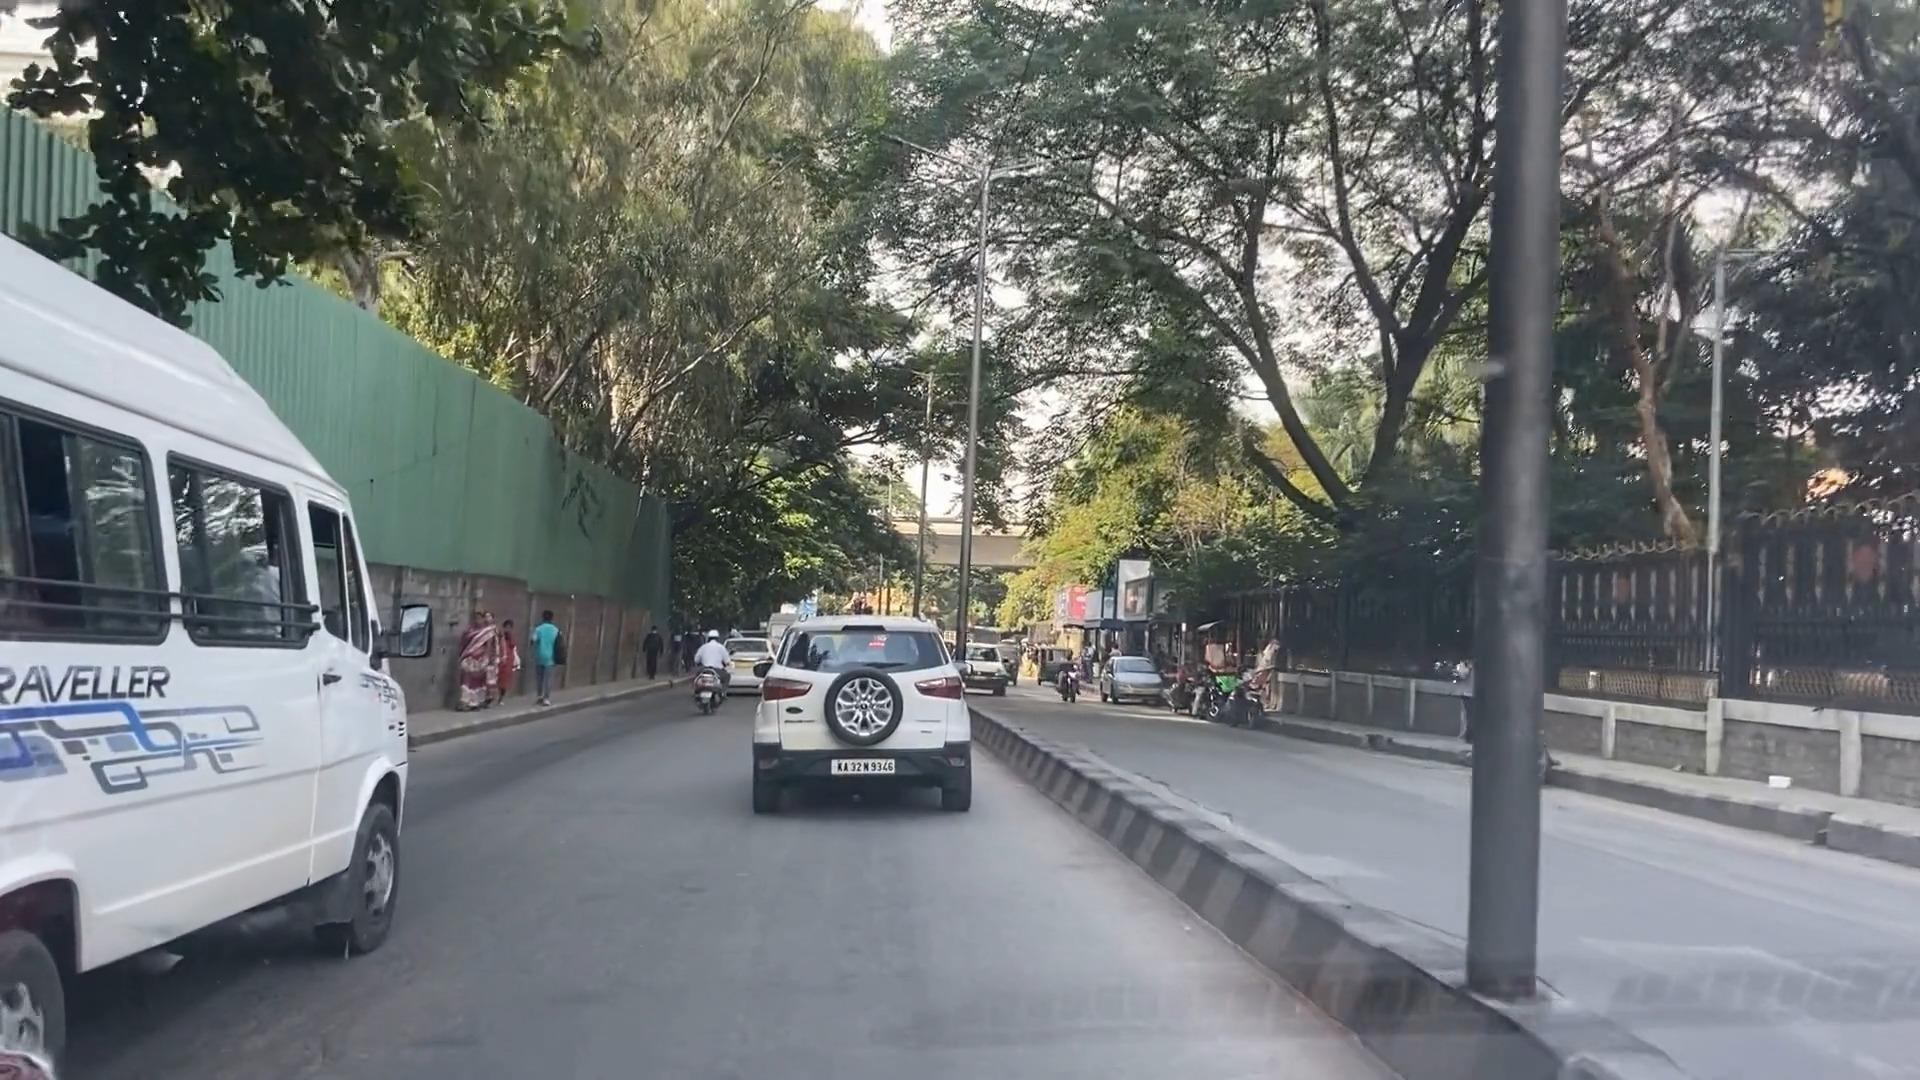HMV: (25, 228, 415, 1080)
LMV: (770, 597, 989, 827)
